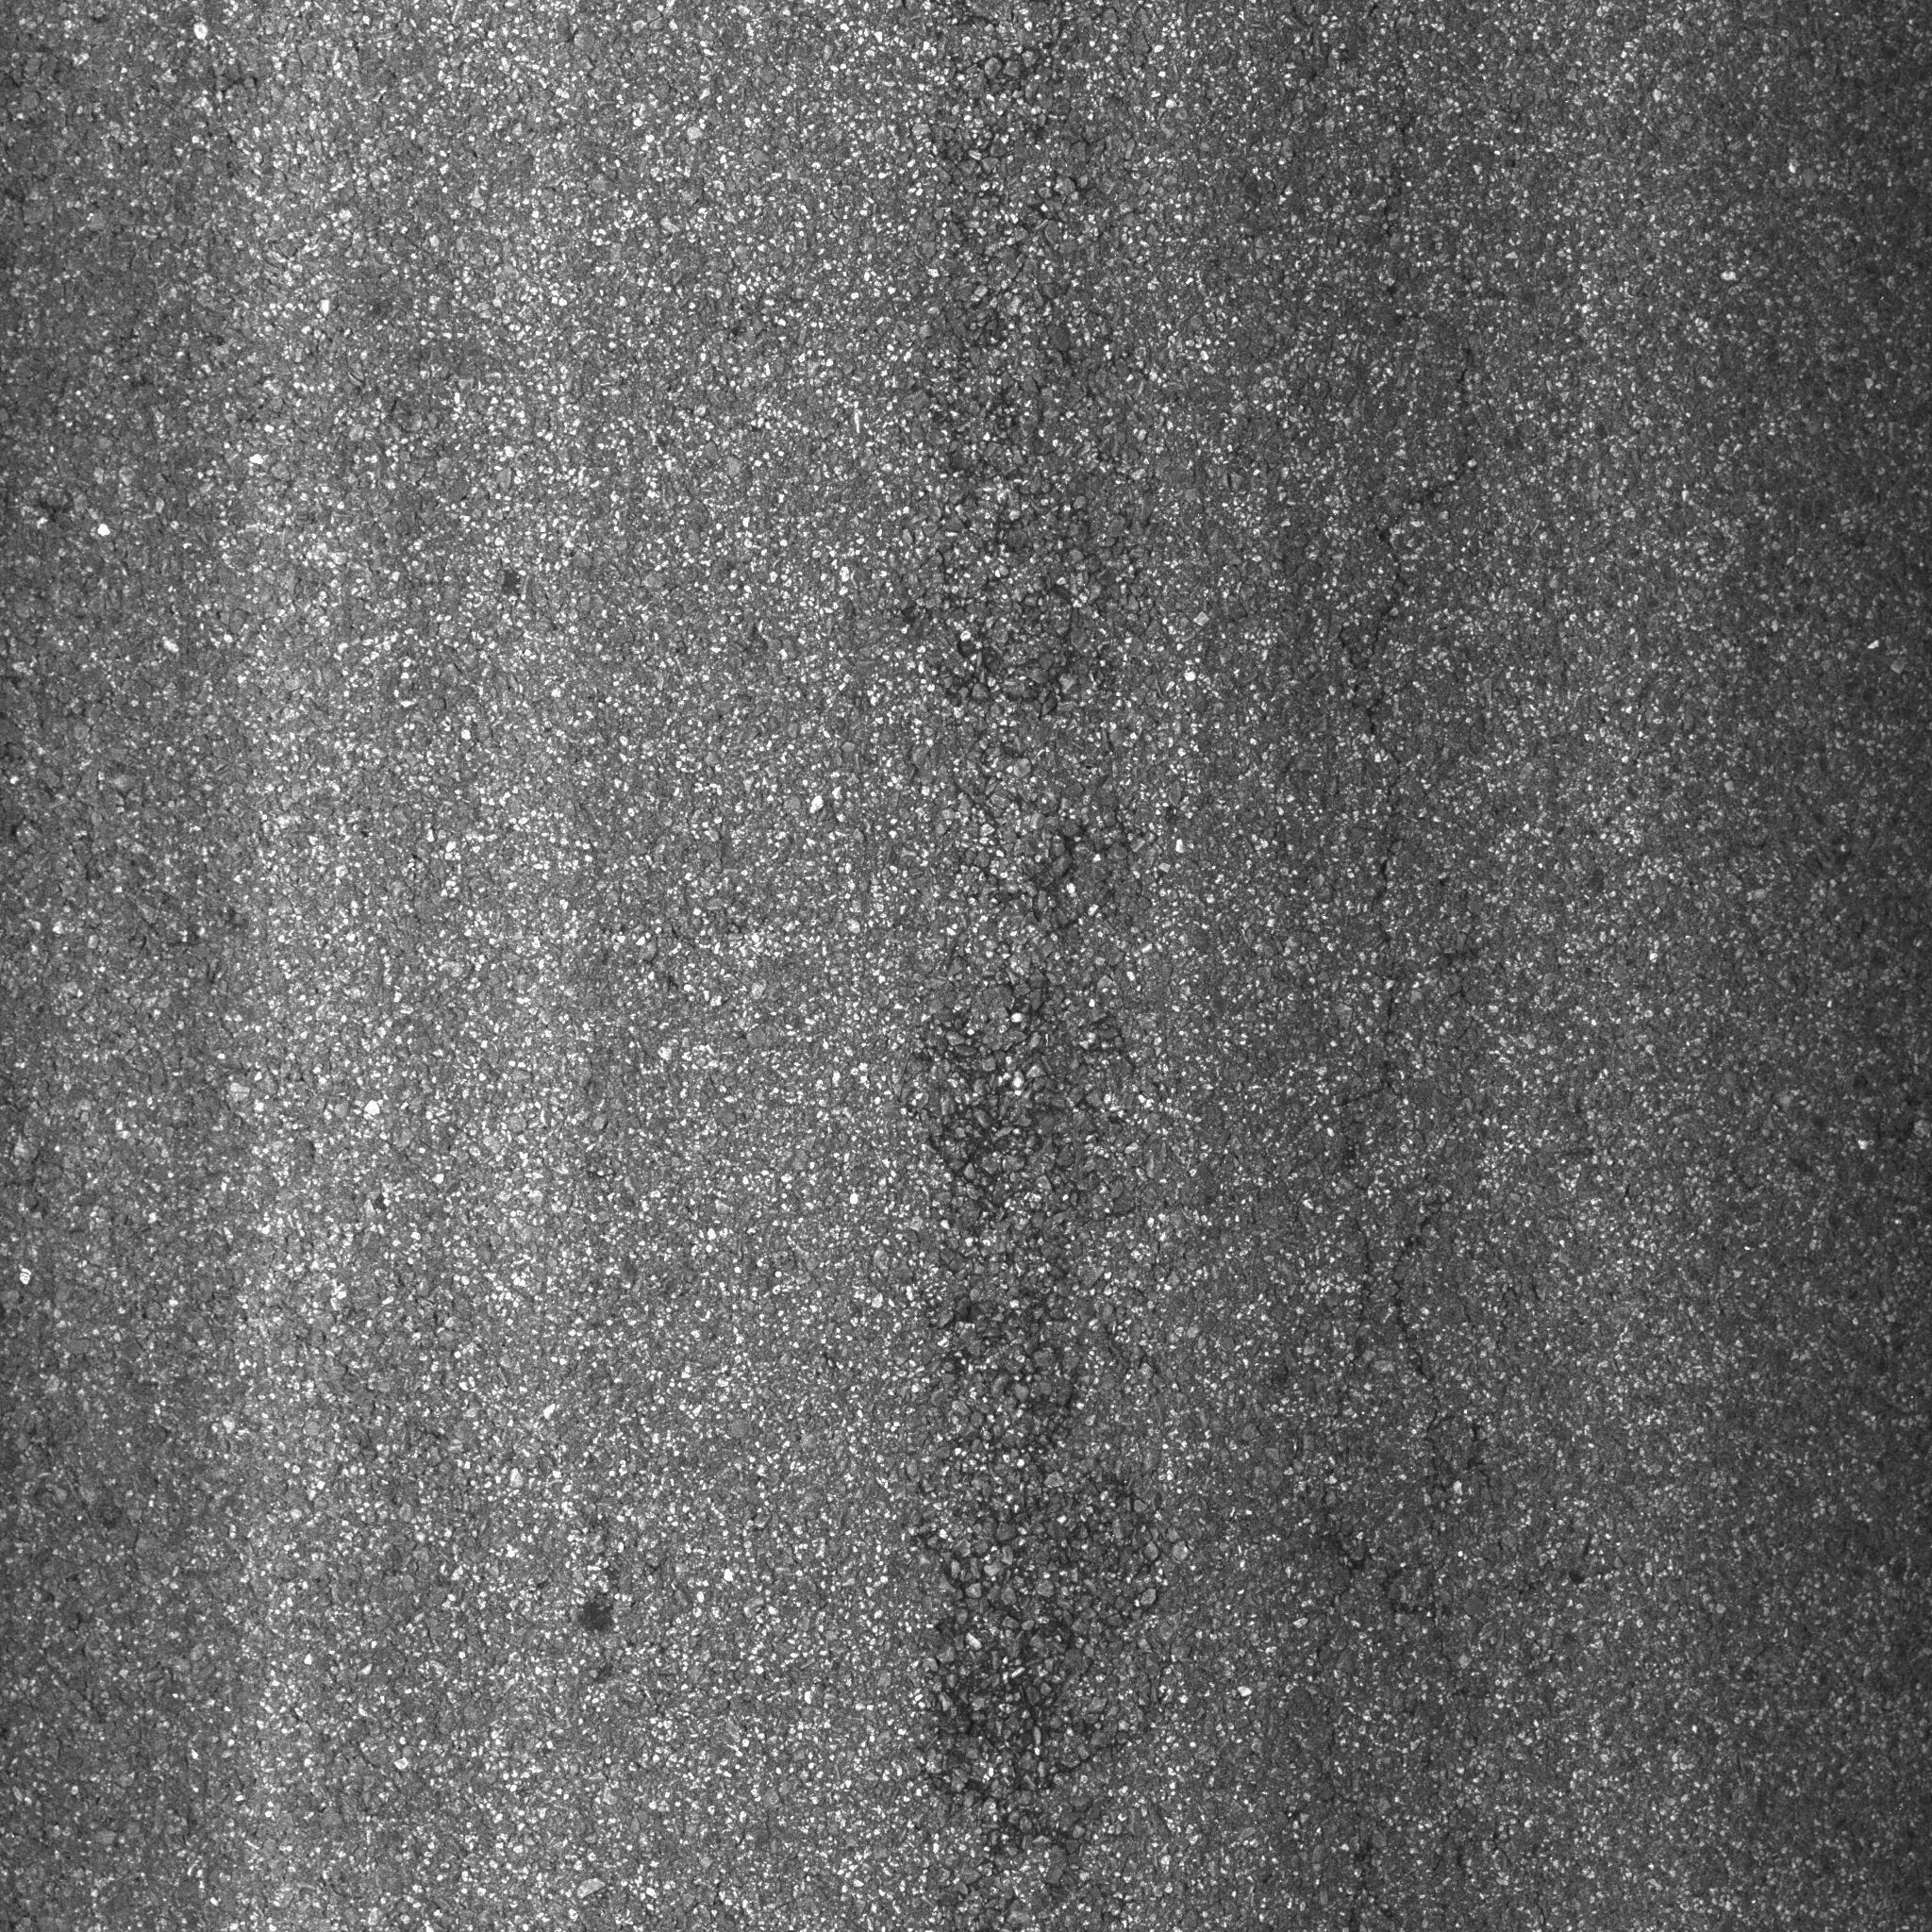longitudinal: (1327, 356, 1476, 1592)
